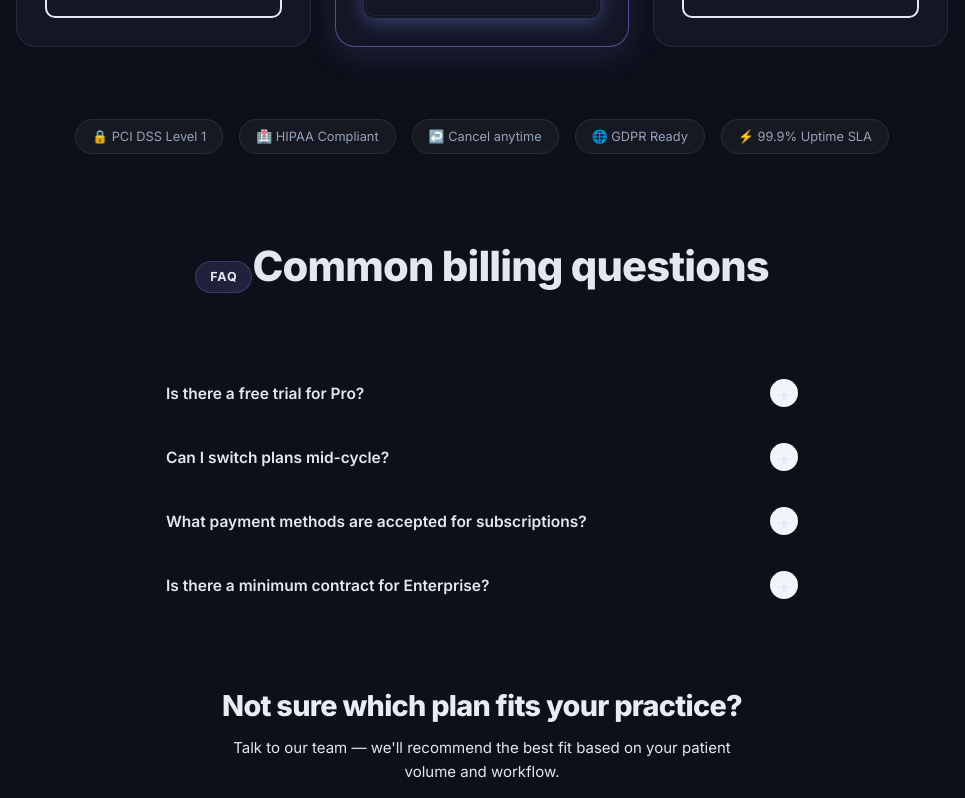
Test: Subscriptions › FAQ section › toggles FAQ aria-expanded
(page scrolled)
Click the button "Is there a free trial for Pro? +" at point(265, 393), box [146,361,818,425]
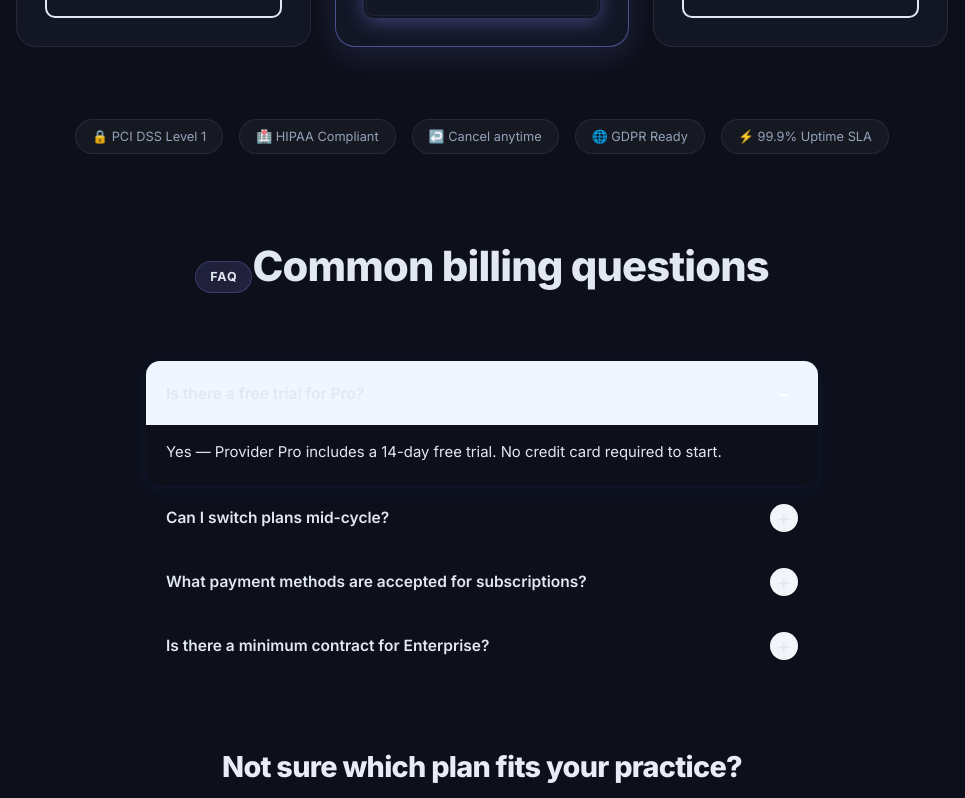
Expected: the button "Is there a free trial for Pro? −" is expanded, [146,361,818,425]
